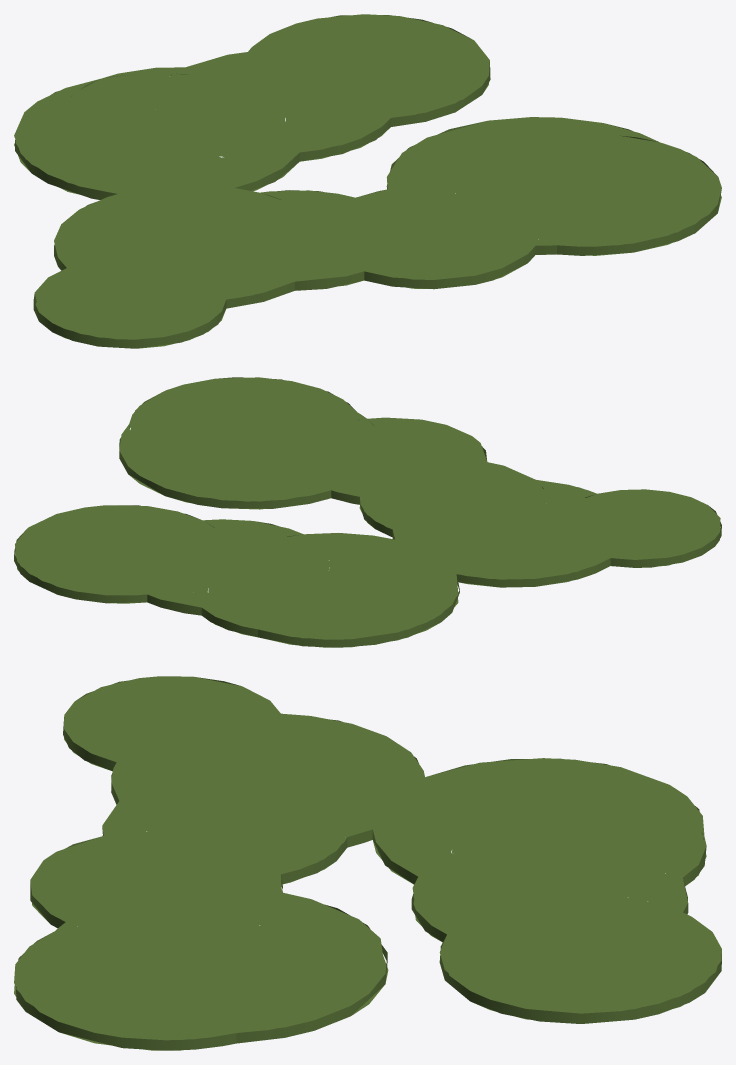
File: f28-floating-weed-mat.lod1.glb
3 renders of one model, top to bottom at view 1: azimuth 30°, elevation 25°; view 2: azimuth 150°, elevation 25°; view 3: azimuth 270°, elevation 25°, orthographic. The views are drawn at different scales.
Parts seen in each view (by area): view 1: part0; view 2: part0; view 3: part0.
Part boxes in pixels (x1,y1,x2,y2): part0: [14, 14, 721, 348]; part0: [14, 377, 721, 647]; part0: [14, 676, 721, 1050].
Size of the model in its own units: 4450 by 59.76 by 3656.
